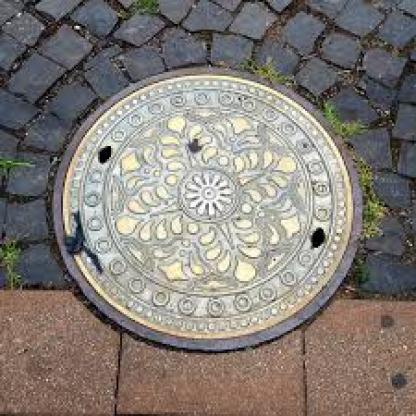closed manhole-not overflowing-: (57, 83, 370, 350)
